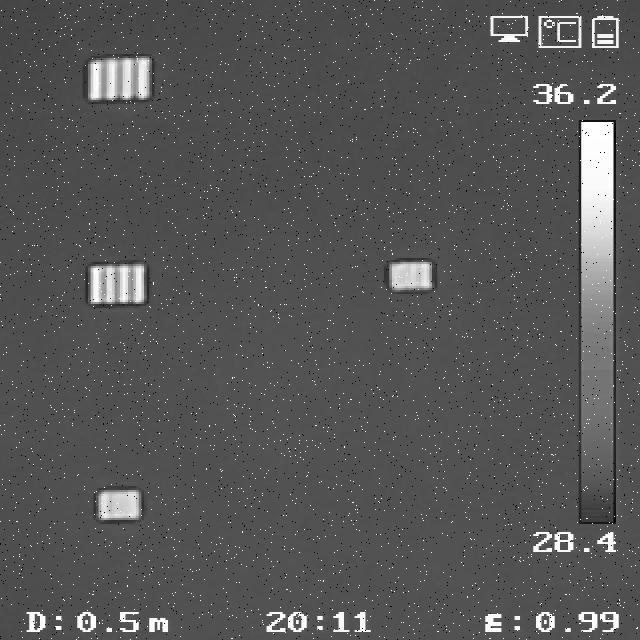Distinguishable 4-bar target: (93, 59, 151, 99), (88, 267, 147, 304)
threshold 4-bar target: (390, 263, 430, 289), (101, 491, 136, 518)
